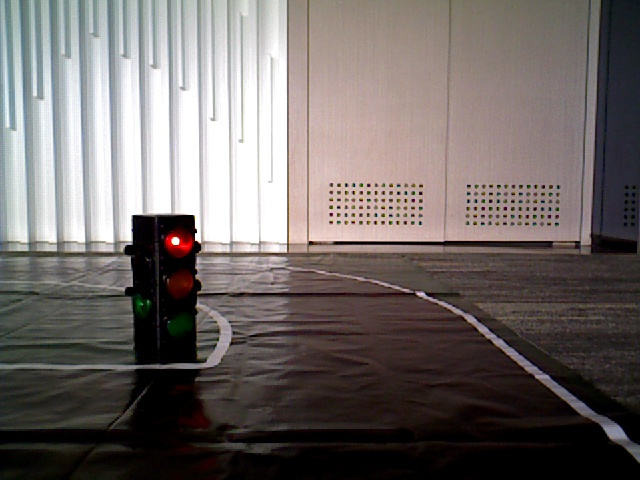red: (149, 215, 196, 346)
